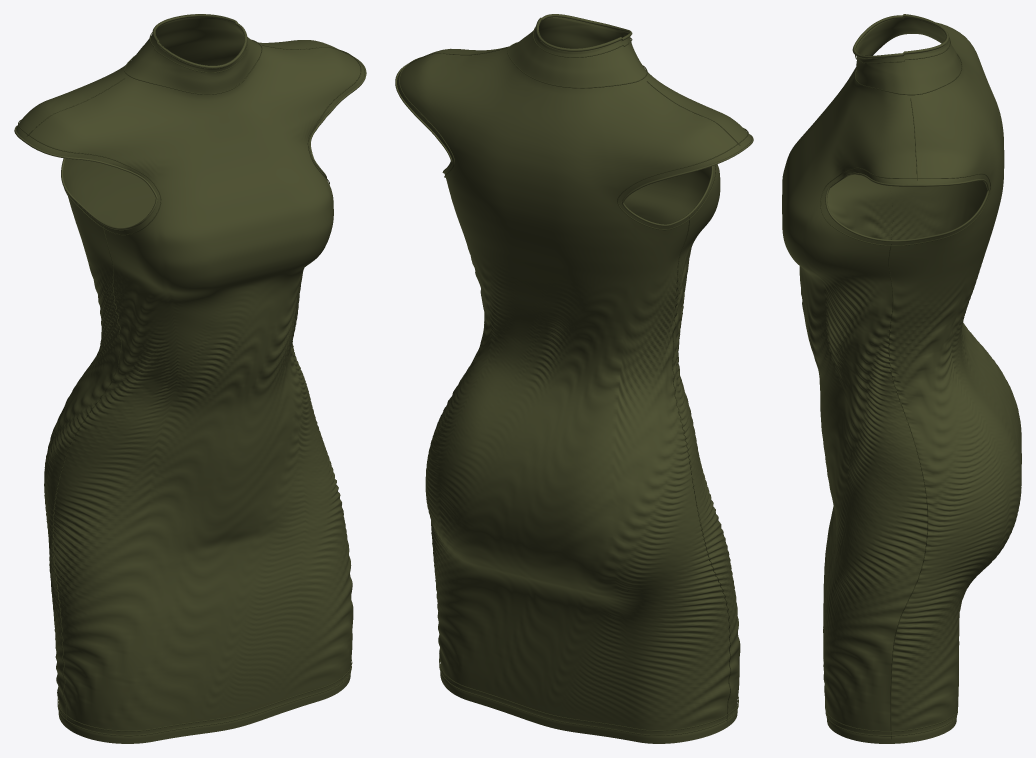
File: vestido-mini-firerie_S.glb
3 renders of one model, left to right at view 1: azimuth 30°, elevation 25°; view 2: azimuth 150°, elevation 25°; view 3: azimuth 270°, elevation 25°, orthographic. The views are drawn at different scales.
Visible parts, largest first — view 1: vestido, canesu, sisa-borde, cuello-borde, pespunte; view 2: vestido, canesu, sisa-borde, cuello-borde, pespunte; view 3: vestido, canesu, pespunte (×2), sisa-borde, cuello-borde.
Part boxes in pixels (bbox=[...]): vestido: bbox=[44, 158, 353, 743]; canesu: bbox=[16, 14, 364, 198]; sisa-borde: bbox=[14, 125, 157, 230]; cuello-borde: bbox=[152, 14, 247, 68]; pespunte: bbox=[52, 226, 121, 722]; vestido: bbox=[425, 161, 740, 743]; canesu: bbox=[397, 14, 751, 202]; sisa-borde: bbox=[622, 134, 753, 226]; cuello-borde: bbox=[535, 14, 632, 51]; pespunte: bbox=[672, 217, 731, 722]; vestido: bbox=[782, 125, 1021, 743]; canesu: bbox=[808, 14, 1003, 188]; pespunte (×2): bbox=[820, 167, 990, 739]; sisa-borde: bbox=[825, 172, 989, 241]; cuello-borde: bbox=[852, 14, 949, 58].
Size of the model in its own units: 0.4454 by 0.8511 by 0.2824.
